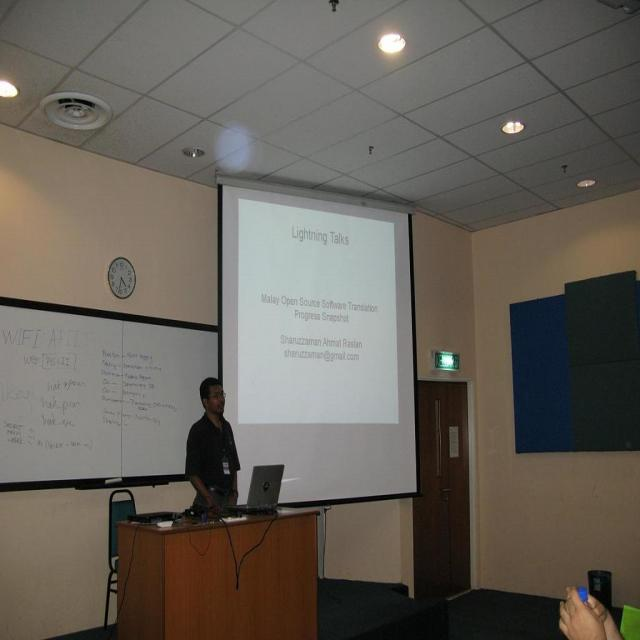chair: (102, 489, 137, 626)
desk: (99, 489, 327, 630)
laptop: (218, 463, 284, 515)
person: (185, 376, 242, 512), (562, 587, 629, 640)
tv: (217, 176, 417, 514)
